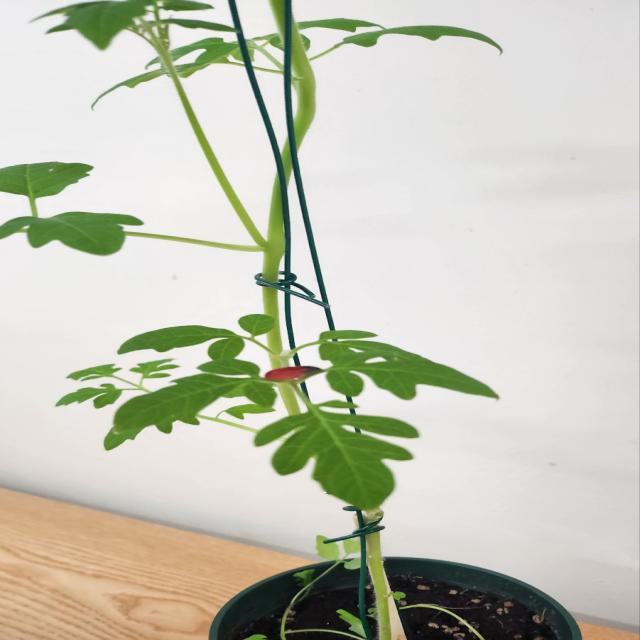bug: (249, 356, 332, 387)
